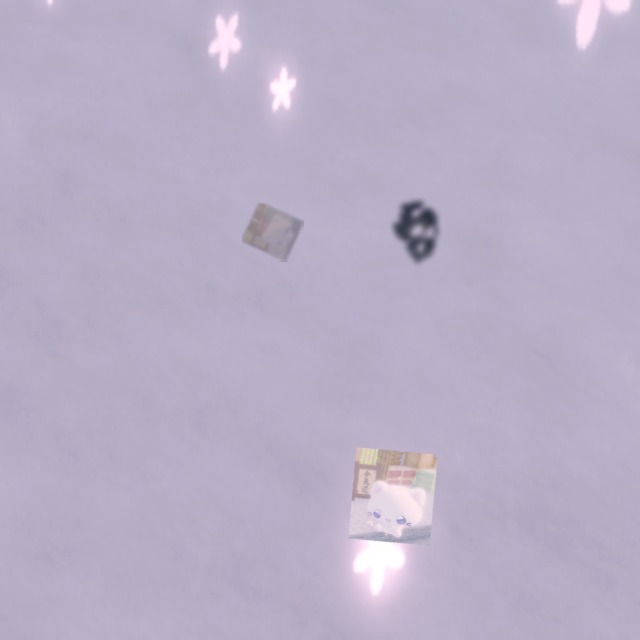urso_branco: (348, 447, 438, 546), (242, 203, 304, 262)
urso_preto: (384, 197, 450, 272)
